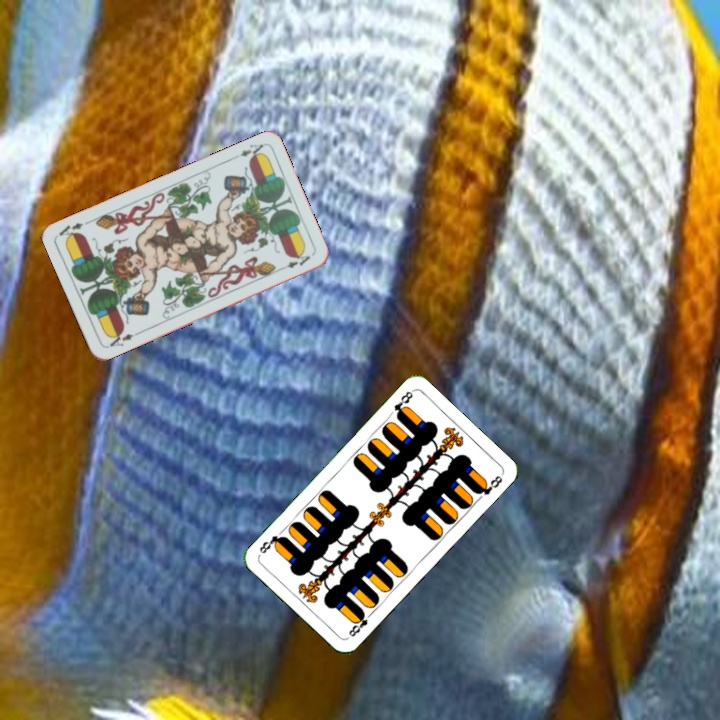E8: (345, 608, 376, 639), (390, 387, 415, 421)
EA: (104, 327, 142, 350), (228, 140, 266, 162)
